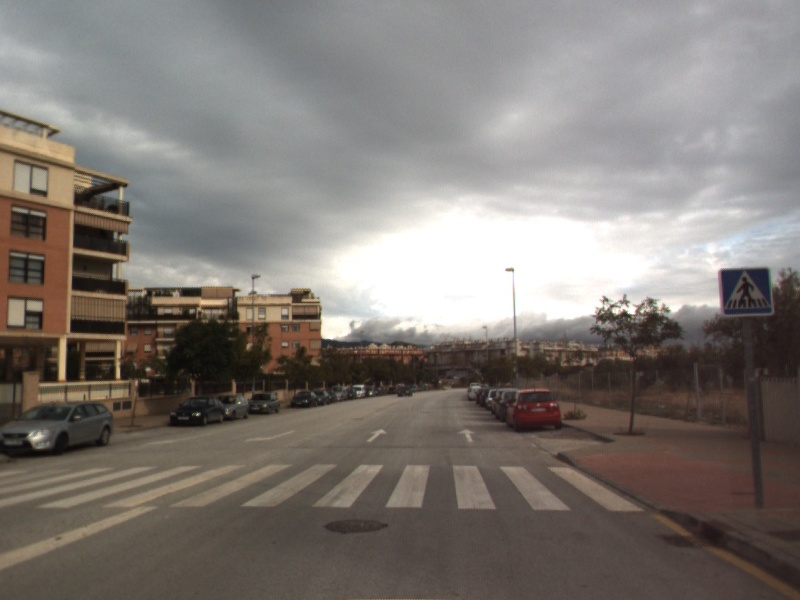STRAIGHT: (364, 427, 390, 444), (456, 426, 478, 444)
